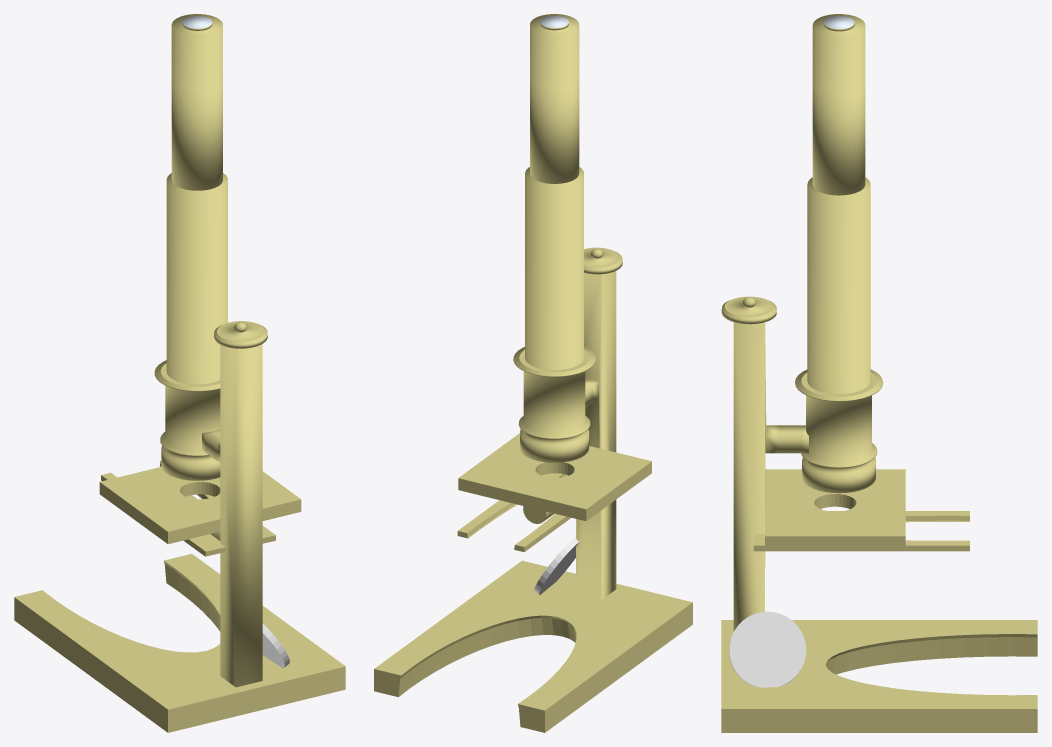
File: Microscope2.fbx
3 renders of one model, left to right at view 1: azimuth 30°, elevation 25°; view 2: azimuth 150°, elevation 25°; view 3: azimuth 270°, elevation 25°, orthographic. The views are drawn at different scales.
Parts seen in each view (by area): view 1: MainTube, MainTube.001; view 2: MainTube, MainTube.001; view 3: MainTube, MainTube.001.
Boxes of the visible parts, box(x1,y1,x2,y2) form: MainTube: box(14, 14, 345, 732); MainTube.001: box(182, 16, 289, 668); MainTube: box(374, 14, 692, 732); MainTube.001: box(534, 16, 578, 594); MainTube: box(721, 14, 1037, 732); MainTube.001: box(729, 16, 854, 687).
Bounding box in the file's own units: 12 × 41.78 × 18.
